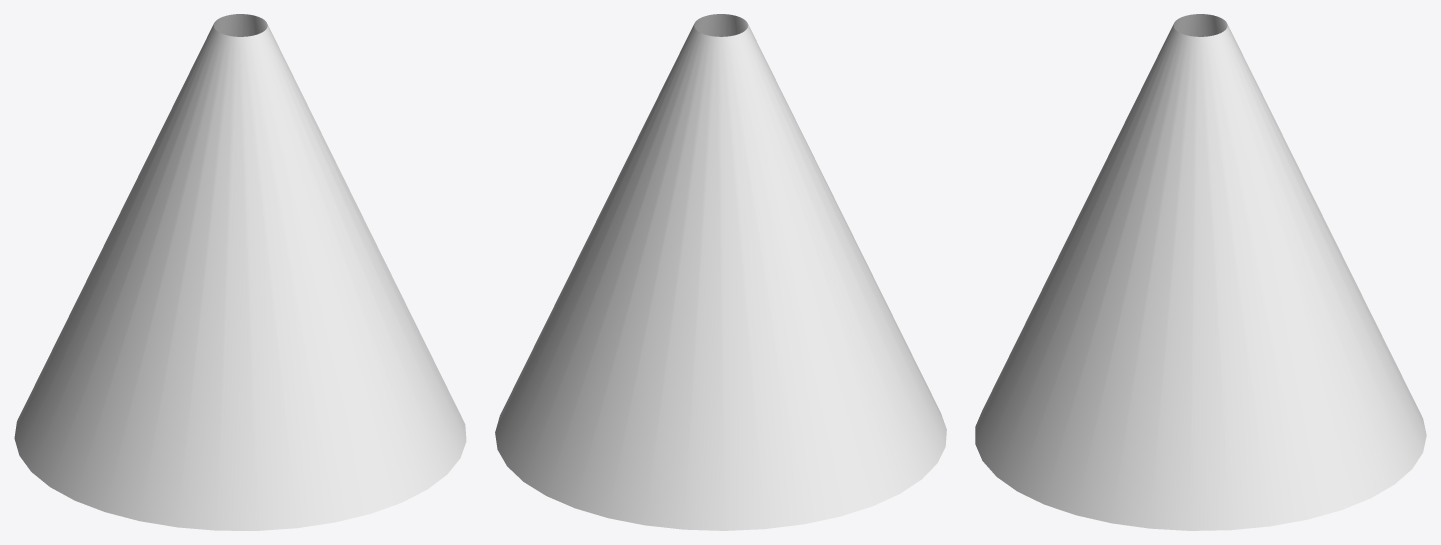
File: Light.fbx
The picture shows the model from 3 angles, left to right: view 1: azimuth 30°, elevation 25°; view 2: azimuth 150°, elevation 25°; view 3: azimuth 270°, elevation 25°; orthographic projection.
Visible parts, largest first — view 1: luz1, luz2; view 2: luz1, luz2; view 3: luz1, luz2.
Part boxes in pixels (left/top/right/bottom): luz1: left=14, top=24, right=466, bottom=530; luz2: left=213, top=14, right=267, bottom=36; luz1: left=495, top=24, right=946, bottom=530; luz2: left=694, top=14, right=748, bottom=36; luz1: left=975, top=24, right=1426, bottom=530; luz2: left=1173, top=14, right=1227, bottom=36.
Size of the model in its own units: 200 by 200 by 200.
Materials: 2 (2 with a texture image).
